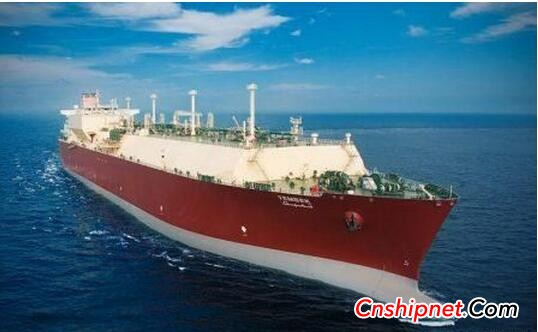Cargoship: (52, 80, 460, 310)
